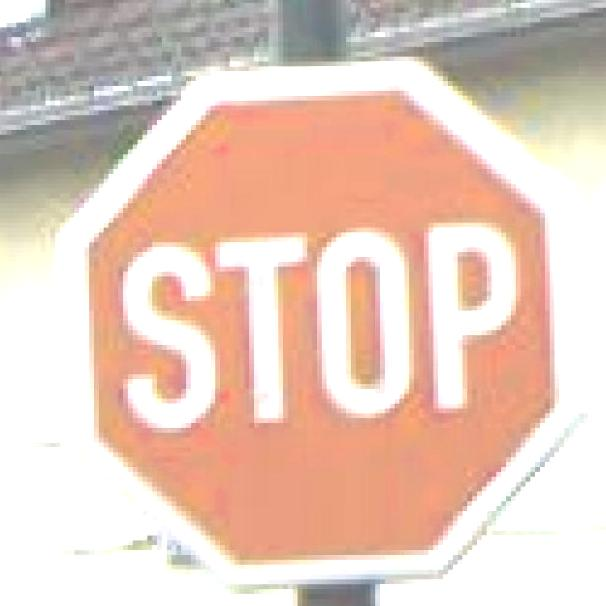stop_sign: (55, 52, 584, 580)
